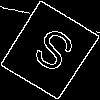S: (24, 25, 79, 82)
